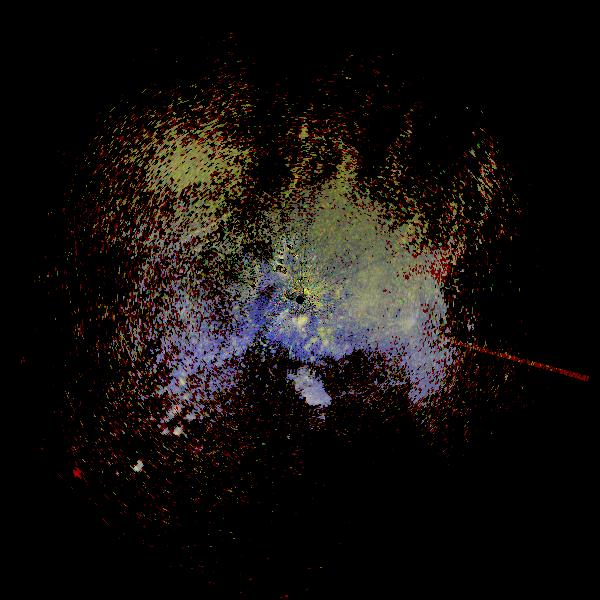roost: (340, 233, 457, 350), (266, 353, 344, 431)
